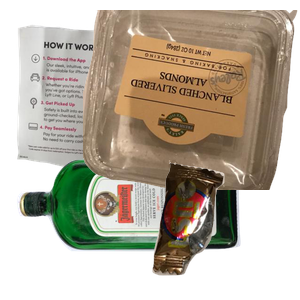glass: (14, 150, 247, 300)
paper: (14, 22, 247, 191)
plastic: (83, 10, 300, 190)
trash: (150, 160, 300, 300)
